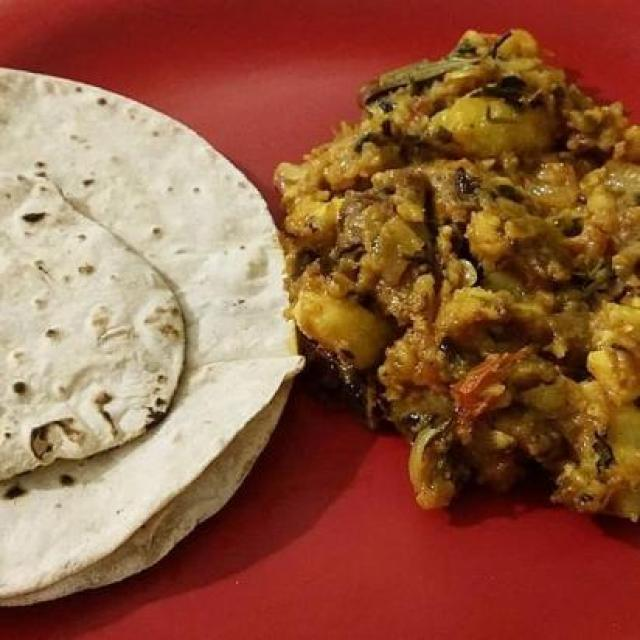alooparatha-chapati: (2, 49, 299, 608)
